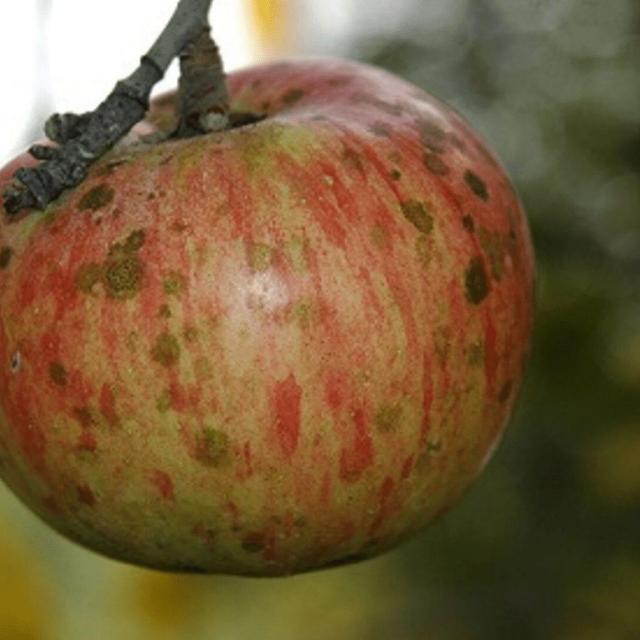Rotten: (10, 79, 521, 556)
